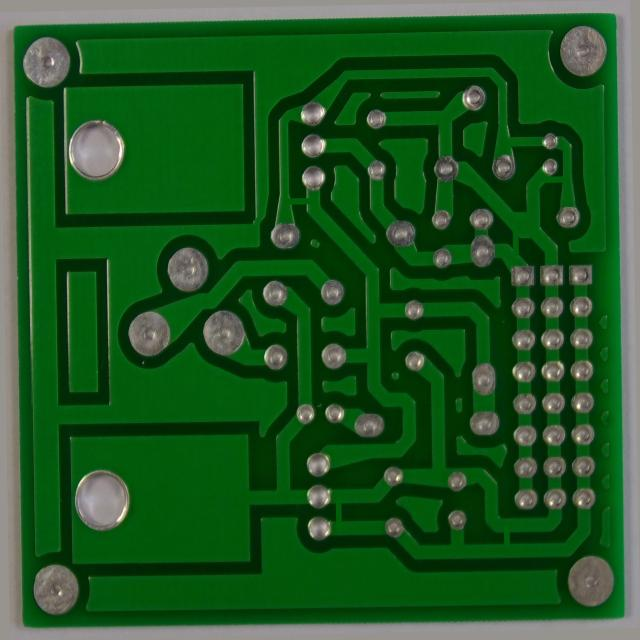short: (486, 518, 524, 567), (276, 182, 327, 218), (316, 491, 351, 542), (507, 215, 534, 264), (538, 163, 577, 196)
